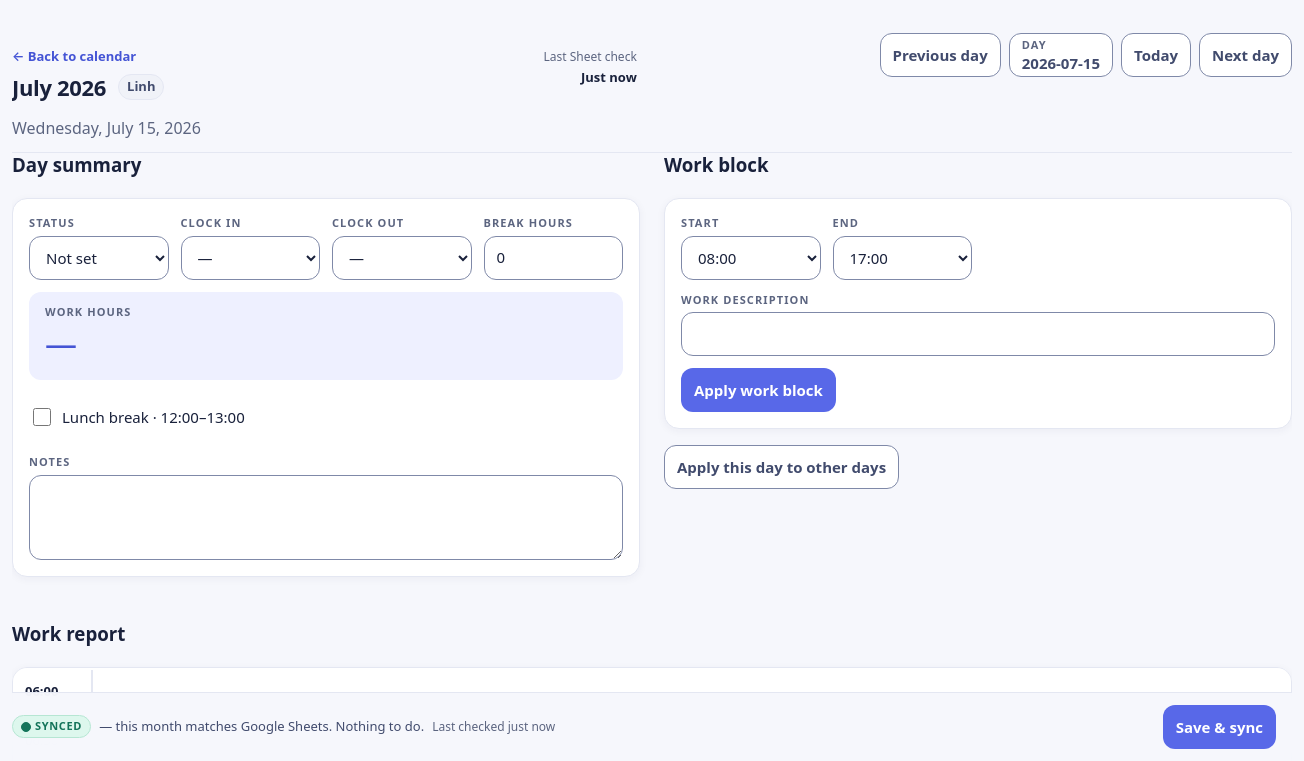
Test case: AttendanceEditor › refuses to save a negative break
Expected: the button "Save & sync" is shown, [1163,705,1276,749]
Replace the text in the number field labelled "Break hours" with "-1": coordinates (553, 258) [484,236,623,280]
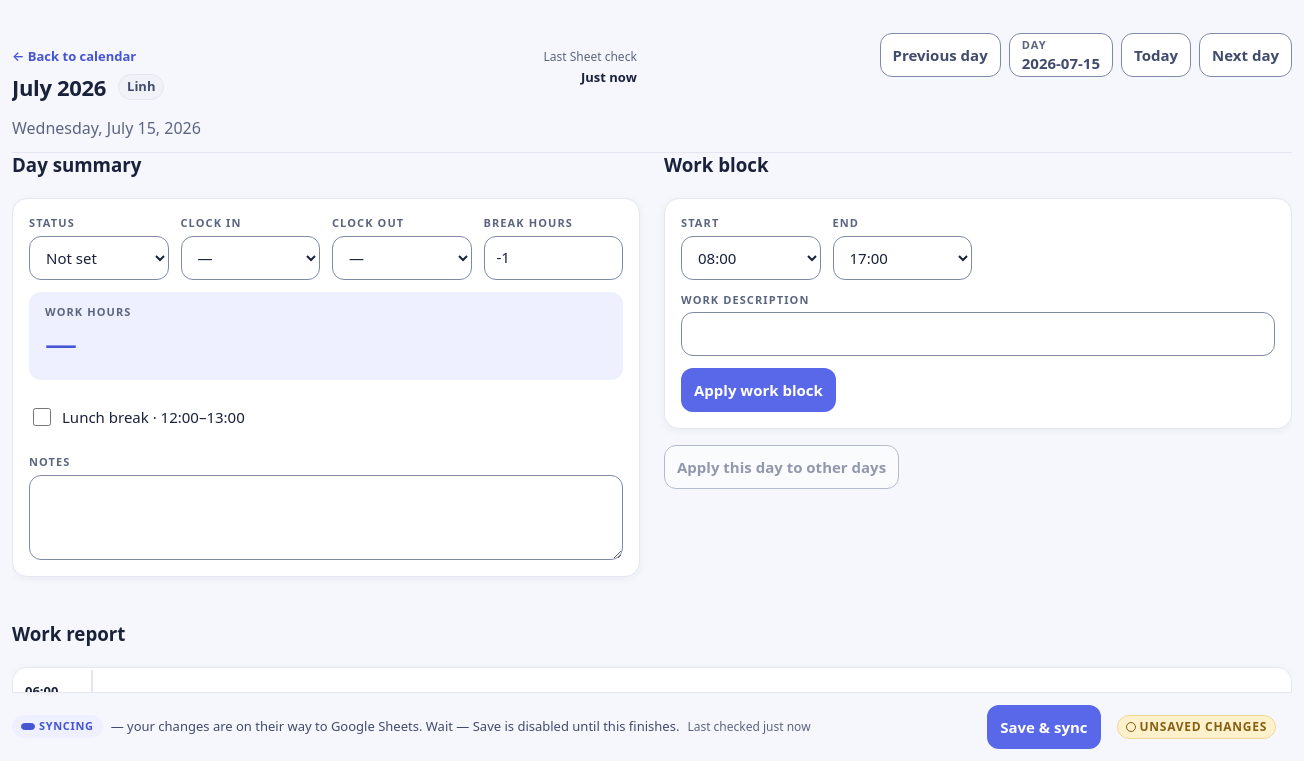
Click the button "Save & sync": coordinates (1044, 727) [987,705,1100,749]
(page scrolled)
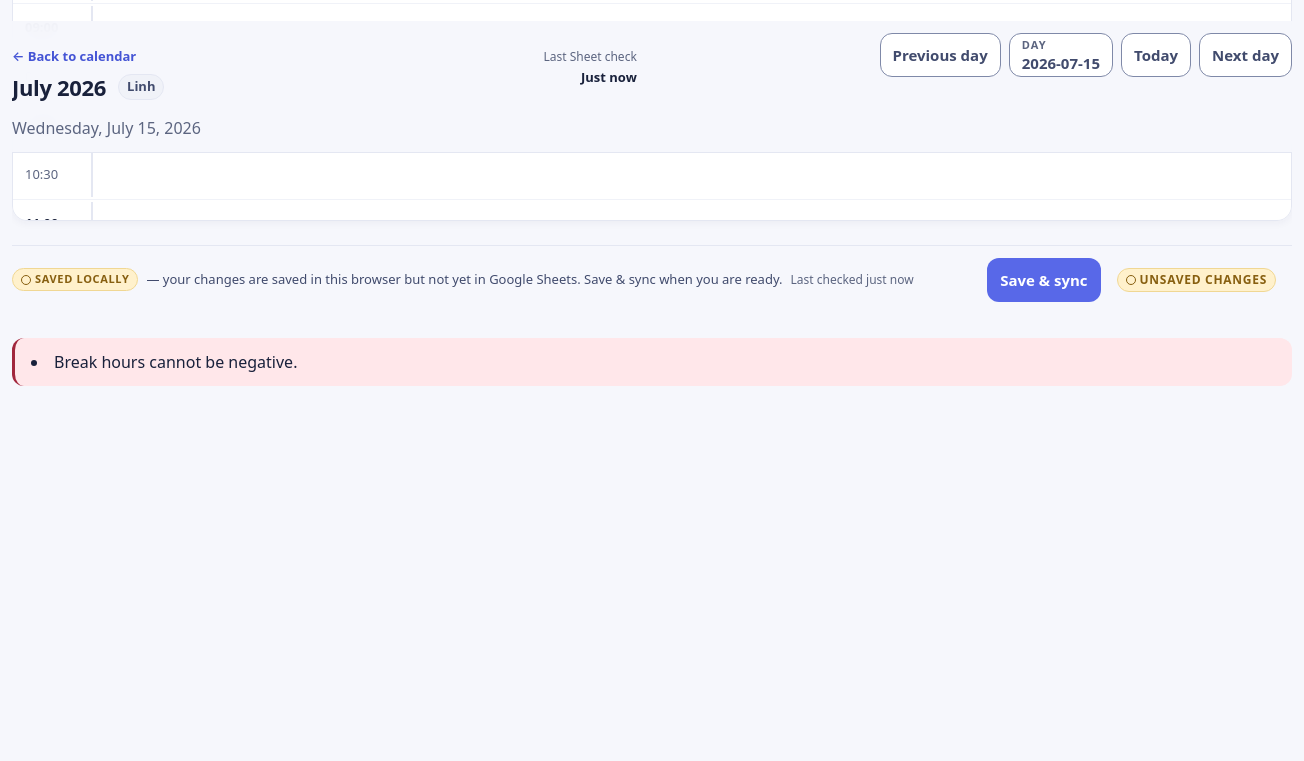
Expected: the list item "Break hours cannot be negative." is shown, [54,350,297,372]
